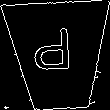P_S: (36, 29, 80, 82)
